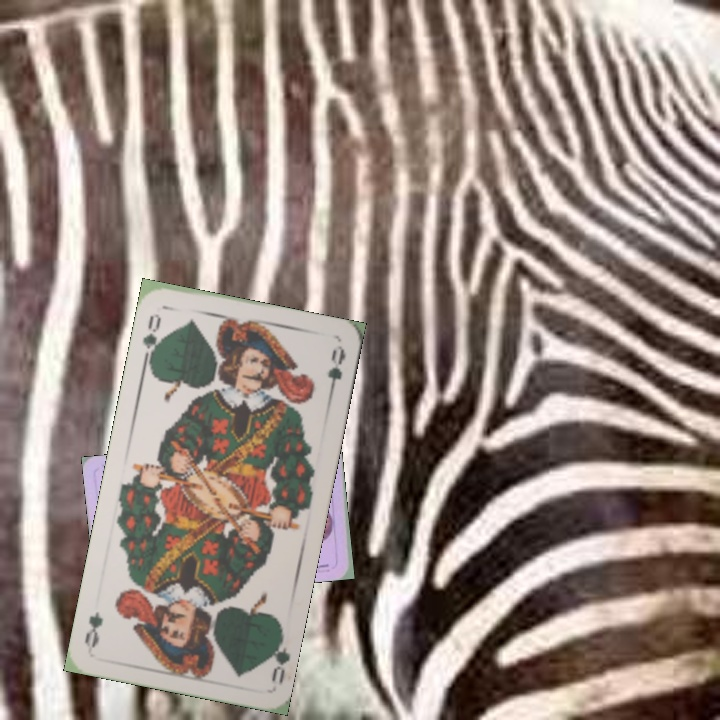GO: (261, 627, 291, 687), (138, 309, 165, 365)
